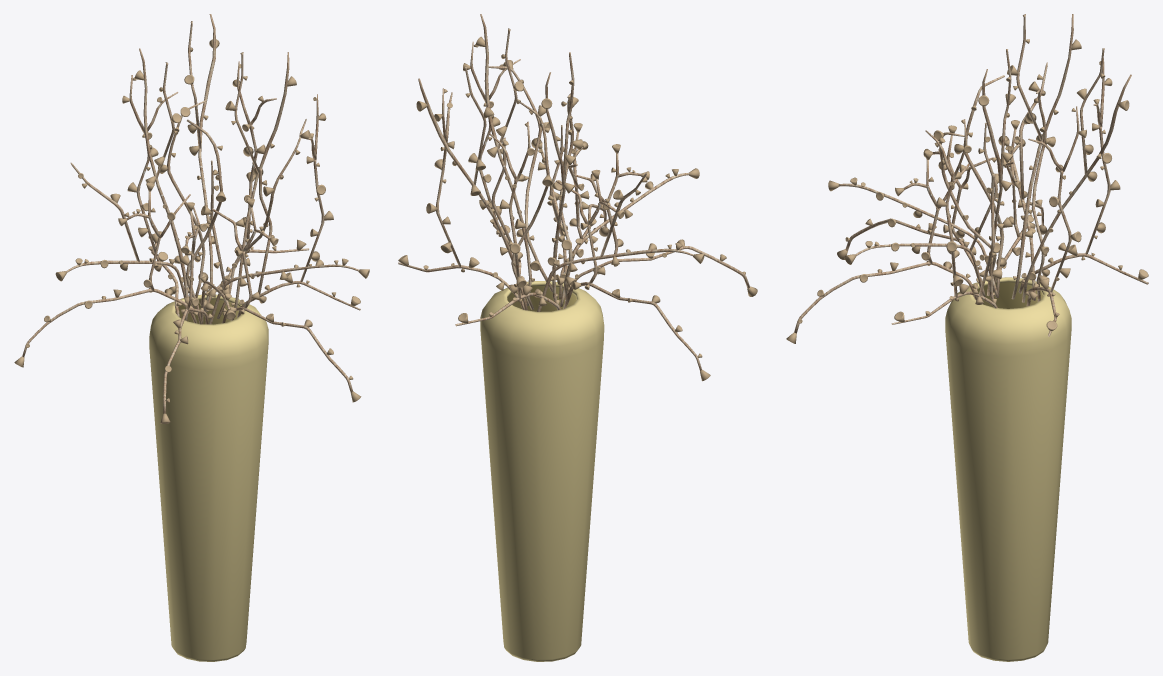
Rendered from vase.glb.
The picture shows the model from 3 angles, left to right: view 1: azimuth 30°, elevation 25°; view 2: azimuth 150°, elevation 25°; view 3: azimuth 270°, elevation 25°; orthographic projection. The views are drawn at different scales.
Visible parts, largest first — view 1: Vase_low_07 - Default_0, Line046_03 - Default_0, Line032_03 - Default_0, Line013_03 - Default_0, Line033_03 - Default_0, Line001_03 - Default_0, Line012_03 - Default_0, Line047_03 - Default_0, Line031_03 - Default_0, Line030_03 - Default_0; view 2: Vase_low_07 - Default_0, Line013_03 - Default_0, Line046_03 - Default_0, Line047_03 - Default_0, Line032_03 - Default_0, Line003_03 - Default_0, Line012_03 - Default_0, Line044_03 - Default_0, Line001_03 - Default_0, Line045_03 - Default_0, Line033_03 - Default_0; view 3: Vase_low_07 - Default_0, Line032_03 - Default_0, Line046_03 - Default_0, Line030_03 - Default_0, Line013_03 - Default_0, Line012_03 - Default_0, Line033_03 - Default_0, Line045_03 - Default_0, Line047_03 - Default_0.
Part boxes in pixels (x1,y1,x2,y2): Vase_low_07 - Default_0: (149,294,268,661); Line046_03 - Default_0: (198,14,215,311); Line032_03 - Default_0: (139,48,188,320); Line013_03 - Default_0: (230,52,289,320); Line033_03 - Default_0: (185,119,222,324); Line001_03 - Default_0: (22,288,197,357); Line012_03 - Default_0: (167,100,206,308); Line047_03 - Default_0: (217,119,306,318); Line031_03 - Default_0: (208,264,358,324); Line030_03 - Default_0: (222,307,352,392); Vase_low_07 - Default_0: (480,281,604,661); Line013_03 - Default_0: (480,14,531,305); Line046_03 - Default_0: (418,78,533,309); Line047_03 - Default_0: (488,66,552,291); Line032_03 - Default_0: (545,72,565,310); Line003_03 - Default_0: (537,248,693,311); Line012_03 - Default_0: (511,100,549,310); Line044_03 - Default_0: (568,246,749,302); Line001_03 - Default_0: (563,282,701,370); Line045_03 - Default_0: (559,173,689,306); Line033_03 - Default_0: (559,93,573,304); Vase_low_07 - Default_0: (945,277,1071,661); Line032_03 - Default_0: (1011,14,1073,299); Line046_03 - Default_0: (1022,74,1131,302); Line030_03 - Default_0: (794,261,977,333); Line013_03 - Default_0: (982,69,1002,304); Line012_03 - Default_0: (1031,89,1046,301); Line033_03 - Default_0: (963,75,1004,295); Line045_03 - Default_0: (838,183,998,297); Line047_03 - Default_0: (939,132,996,295).
Size of the model in its own units: 53.67 by 102 by 54.27.
Materials: 3 (2 with a texture image).
